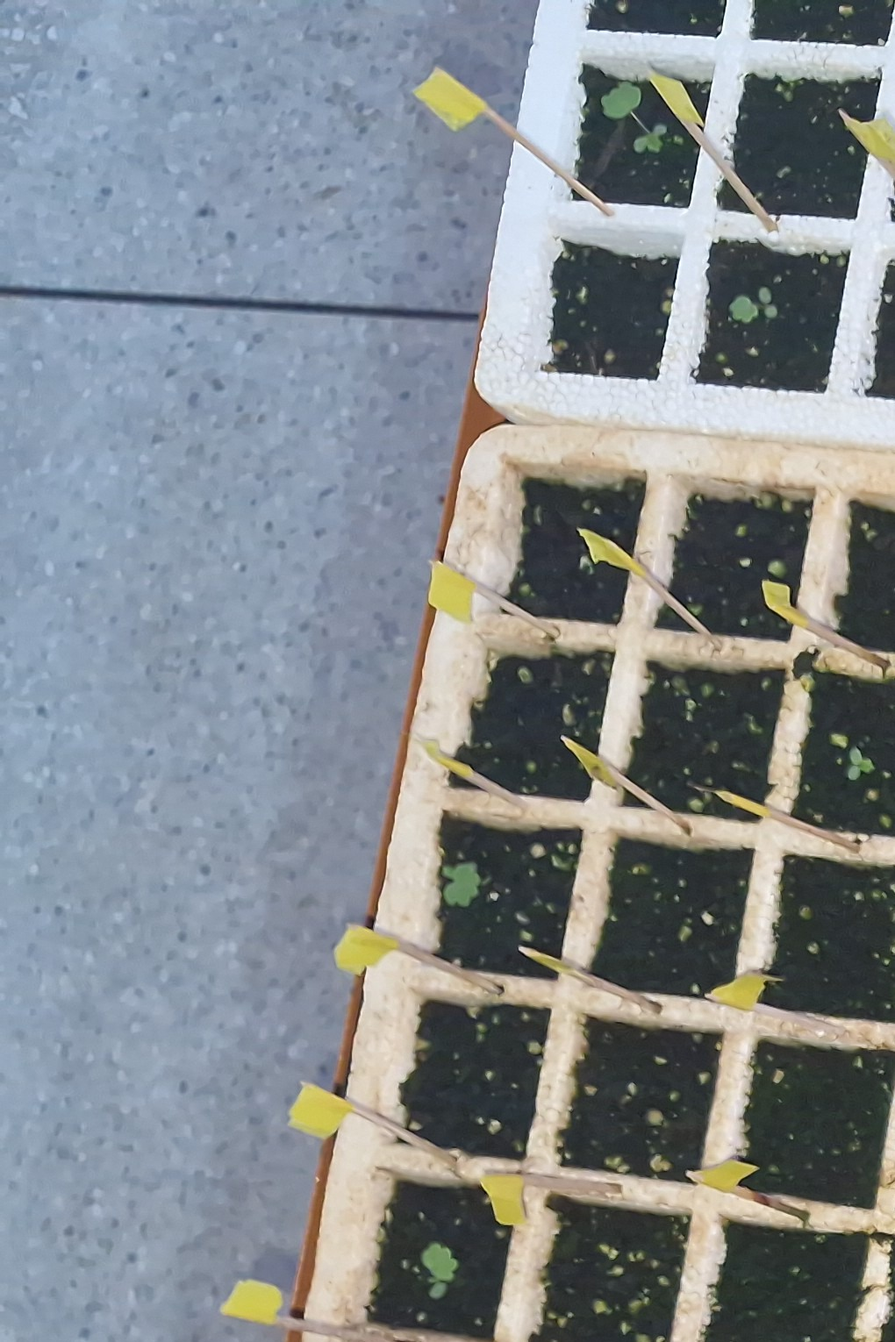Folha: (443, 864, 480, 906), (422, 1242, 457, 1281), (430, 1282, 448, 1298), (850, 748, 861, 765), (848, 766, 860, 780), (860, 760, 872, 772), (443, 867, 453, 879)
Germinacao: (422, 1244, 458, 1298), (441, 863, 481, 906), (848, 747, 874, 780)
